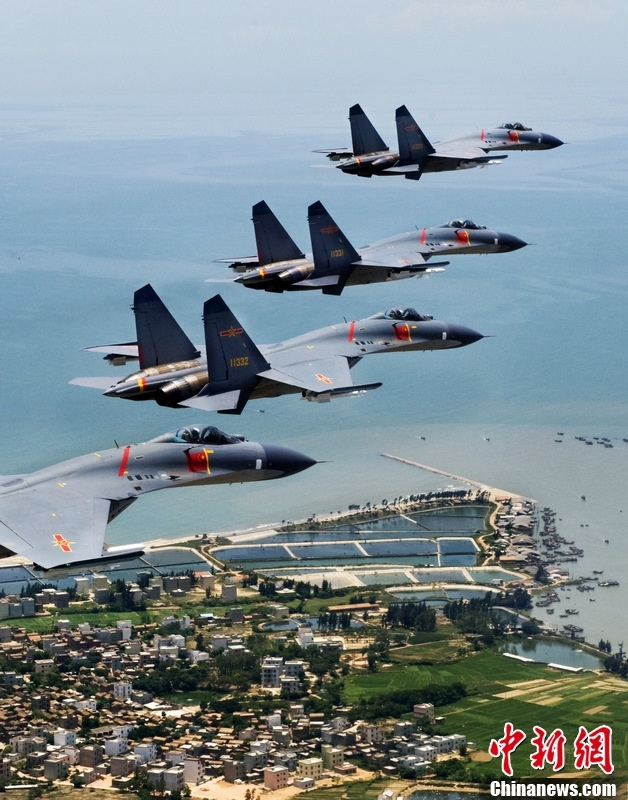airplane: (69, 286, 500, 415), (1, 424, 338, 573), (201, 187, 538, 305), (316, 95, 569, 185)
